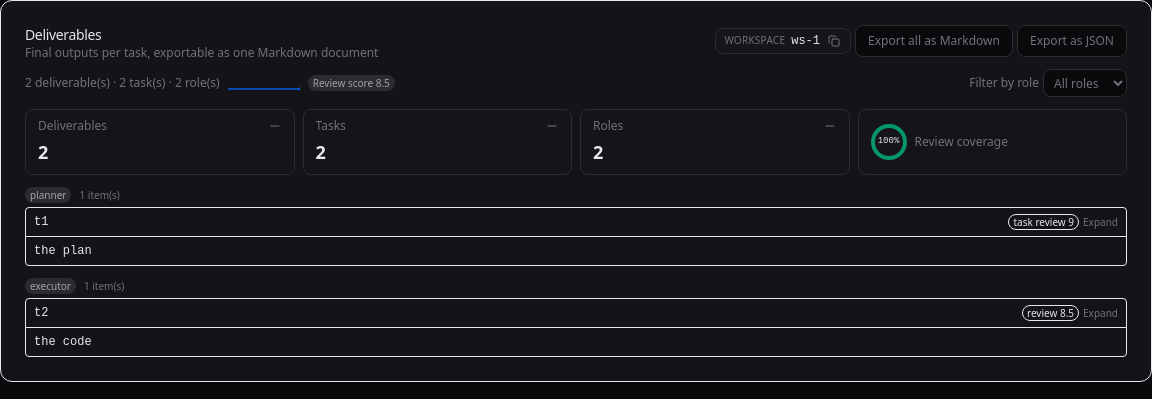
Test: deliverables deepening — render smoke › filters rows by role via the dropdown and shows the per-row count
Expected: the text with test id "deliverables-stats" shows "2 deliverable(s)", [25, 74, 220, 91]
Expected: the list item with test id "deliverable-t1" is shown, [25, 207, 1127, 266]
Select "executor" in the dropdown labelled "Filter by role" at point(1085, 83), box [1043, 69, 1127, 97]
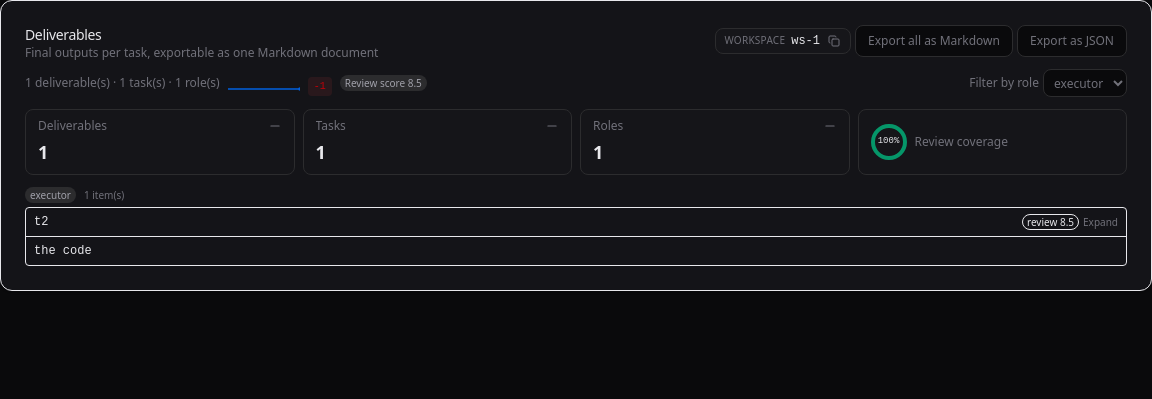
Expected: the list item with test id "deliverable-t2" is shown, [25, 207, 1127, 266]
Result: the list item with test id "deliverable-t1" is gone
Result: the text with test id "deliverables-stats" shows "1 deliverable(s)" at [25, 74, 220, 91]
